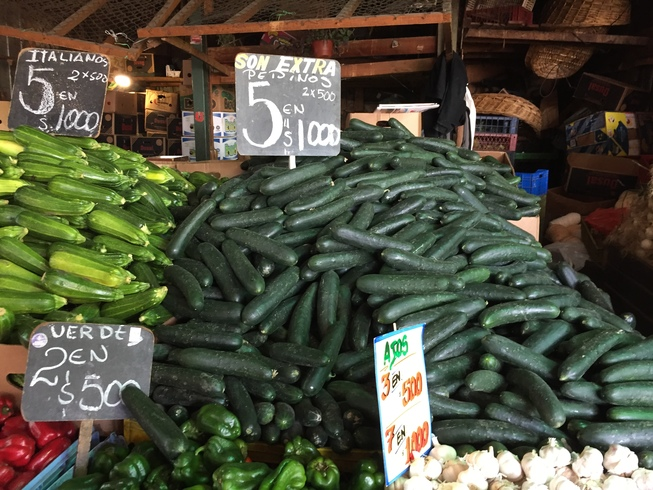precio: (14, 319, 158, 427), (232, 50, 345, 167), (370, 322, 446, 490), (1, 53, 117, 141)
